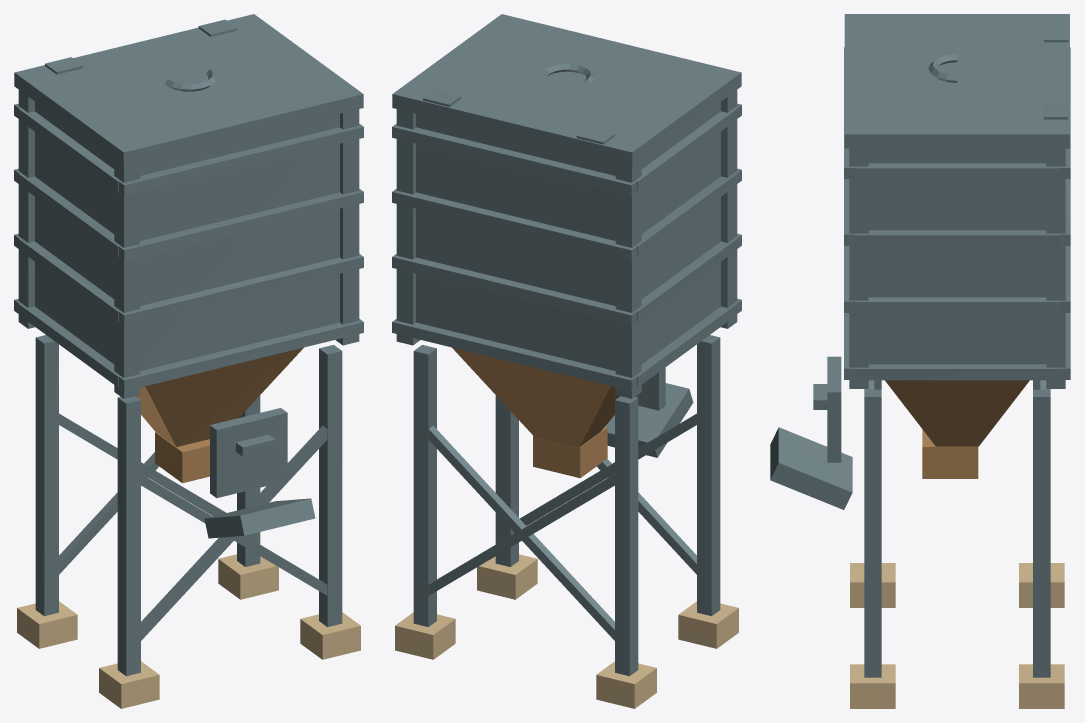
The model's file is Feed-Bin.glb.
3 views of the same model, side by side, from view 1: azimuth 30°, elevation 25°; view 2: azimuth 150°, elevation 25°; view 3: azimuth 270°, elevation 25° (orthographic). The views are drawn at different scales.
Visible parts, largest first — view 1: feed-bin-static-feed-bin-galvanized-shell, feed-bin-static-feed-bin-dark-iron, feed-bin-static-feed-bin-dark-hopper, feed-bin-static-feed-bin-stone-pads; view 2: feed-bin-static-feed-bin-galvanized-shell, feed-bin-static-feed-bin-dark-iron, feed-bin-static-feed-bin-dark-hopper, feed-bin-static-feed-bin-stone-pads; view 3: feed-bin-static-feed-bin-galvanized-shell, feed-bin-static-feed-bin-dark-iron, feed-bin-static-feed-bin-dark-hopper, feed-bin-static-feed-bin-stone-pads.
Part boxes in pixels (x1,y1,x2,y2): feed-bin-static-feed-bin-galvanized-shell: (14, 14, 363, 538); feed-bin-static-feed-bin-dark-iron: (14, 19, 363, 676); feed-bin-static-feed-bin-dark-hopper: (136, 347, 303, 483); feed-bin-static-feed-bin-stone-pads: (17, 554, 360, 708); feed-bin-static-feed-bin-galvanized-shell: (392, 14, 741, 457); feed-bin-static-feed-bin-dark-iron: (392, 64, 741, 676); feed-bin-static-feed-bin-dark-hopper: (452, 347, 619, 478); feed-bin-static-feed-bin-stone-pads: (395, 554, 738, 708); feed-bin-static-feed-bin-galvanized-shell: (770, 14, 1069, 509); feed-bin-static-feed-bin-dark-iron: (827, 26, 1070, 677); feed-bin-static-feed-bin-dark-hopper: (885, 380, 1029, 478); feed-bin-static-feed-bin-stone-pads: (850, 563, 1064, 708).
Bounding box in the file's own units: 1.63 × 3.66 × 1.71.
